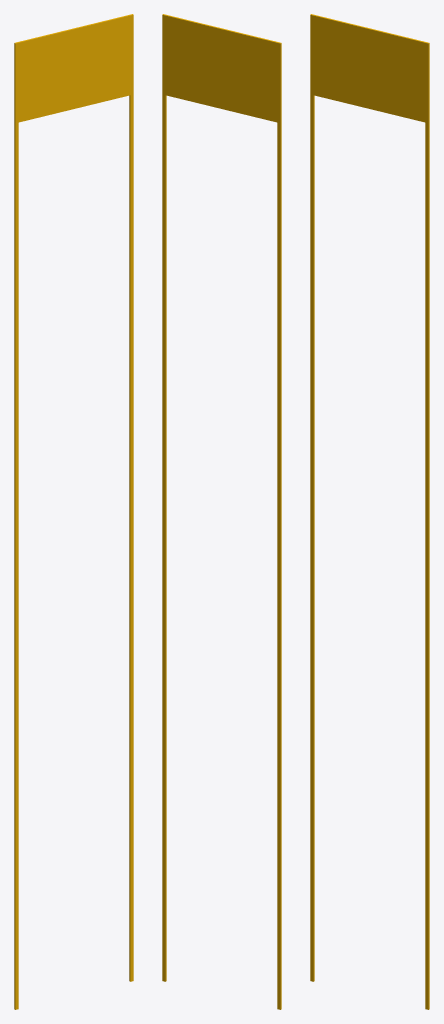
File: marker2_orange_LOD1.gltf
The picture shows the model from 3 angles, left to right: view 1: azimuth 30°, elevation 25°; view 2: azimuth 150°, elevation 25°; view 3: azimuth 330°, elevation 25°; orthographic projection.
Parts seen in each view (by area): view 1: Box001; view 2: Box001; view 3: Box001.
Part boxes in pixels (x1,y1,x2,y2): Box001: (14, 14, 133, 1009); Box001: (162, 14, 281, 1009); Box001: (310, 14, 429, 1009).
Size of the model in its own units: 0.7 by 5.45 by 0.01.
